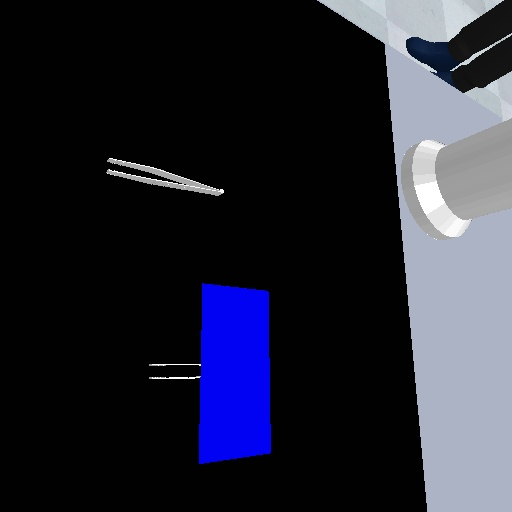pinza: (101, 152, 227, 201), (144, 360, 201, 383)
